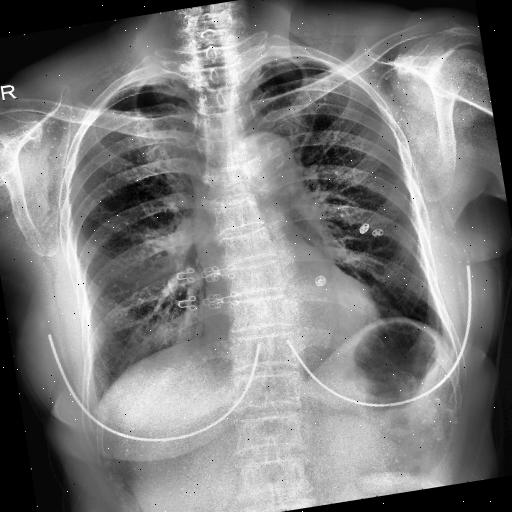0- Aortic enlargement: (226, 124, 300, 195), (238, 128, 298, 194), (236, 127, 290, 189)
